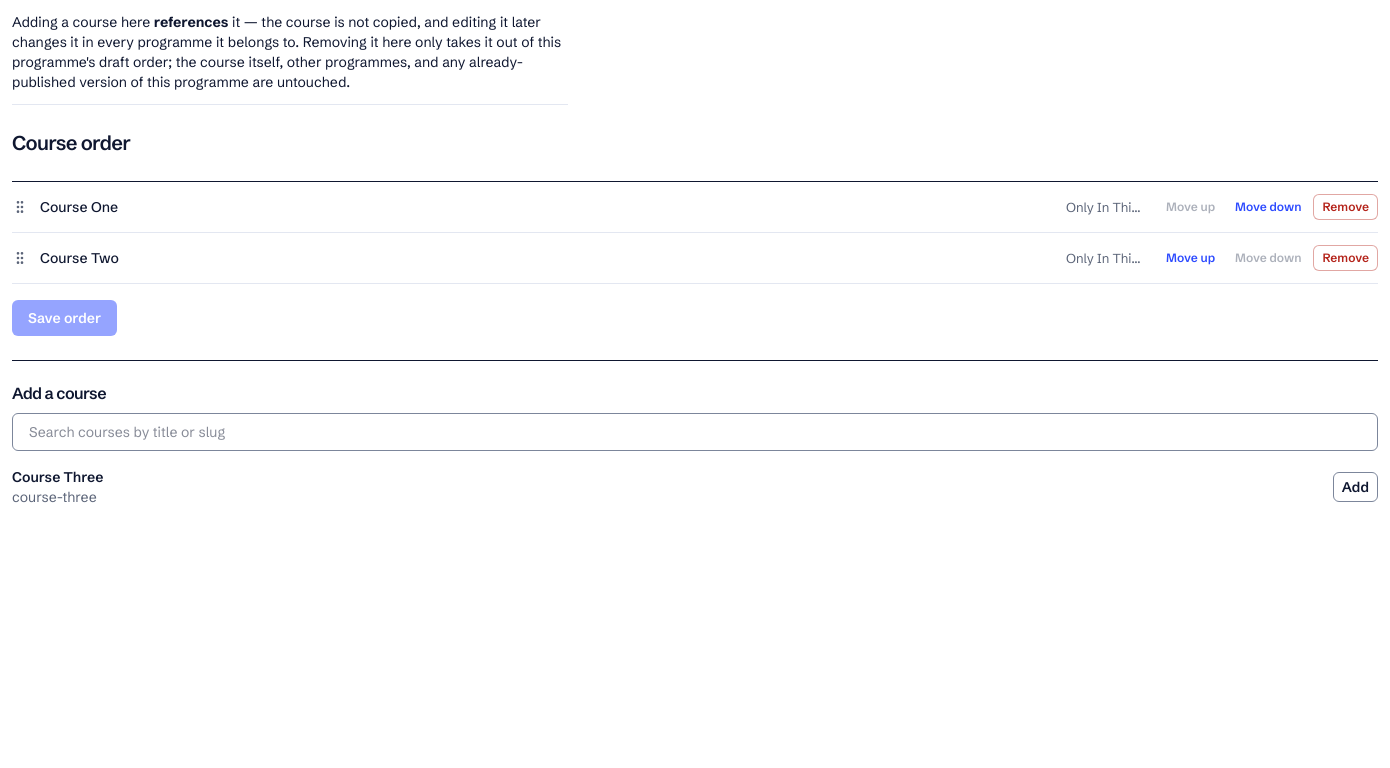
Test: ProgrammeArrangeClient — rejected save order recovers › clears saving, surfaces a generic retryable alert, and a user retry succeeds
The width and height of the screenshot is (1390, 768).
Click the button with aria-label "Move Course One down": (1268, 207) [1227,194,1309,220]
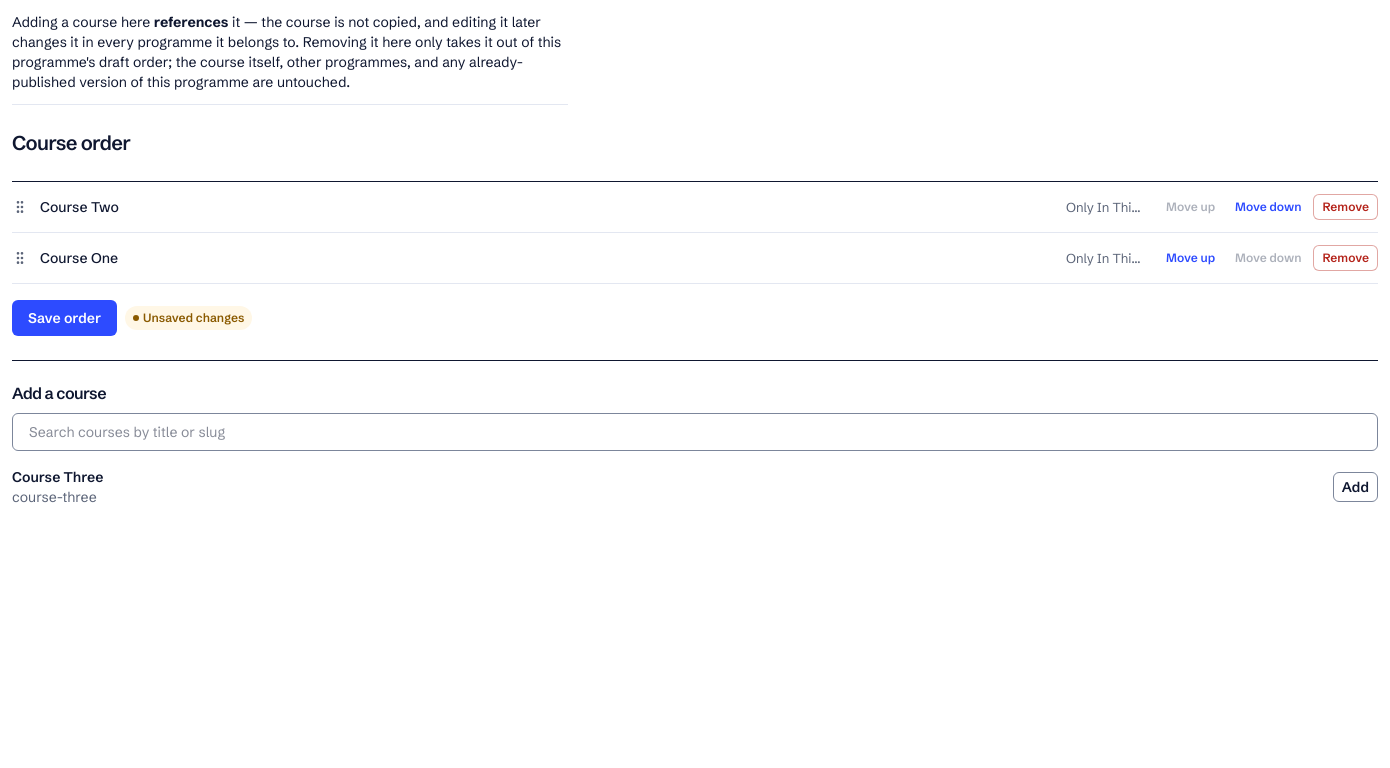
Click the button "Save order": (64, 318) [12,300,117,336]
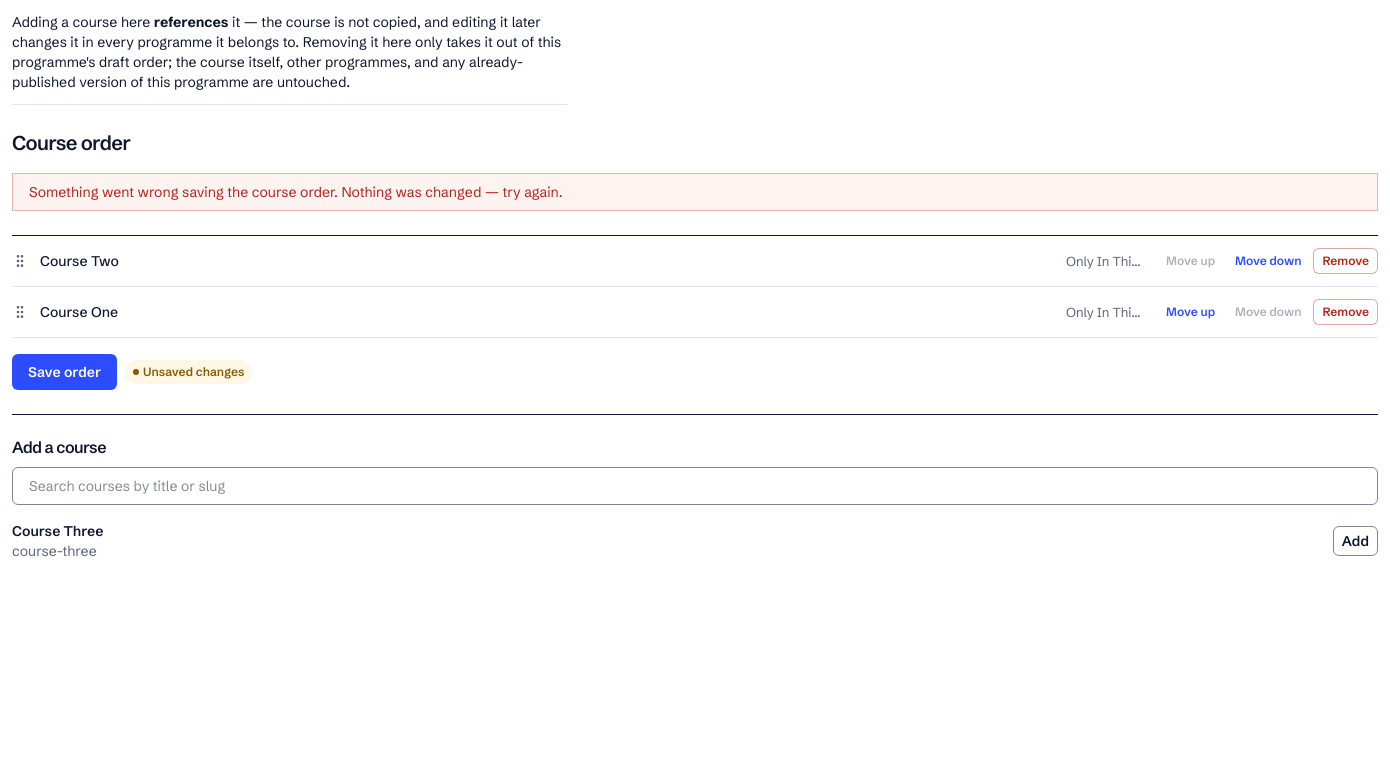
Now the button "Save order" is enabled
Now the message shows "try again", box [29,183,563,201]
Click the button "Save order": (64, 372) [12,354,117,390]
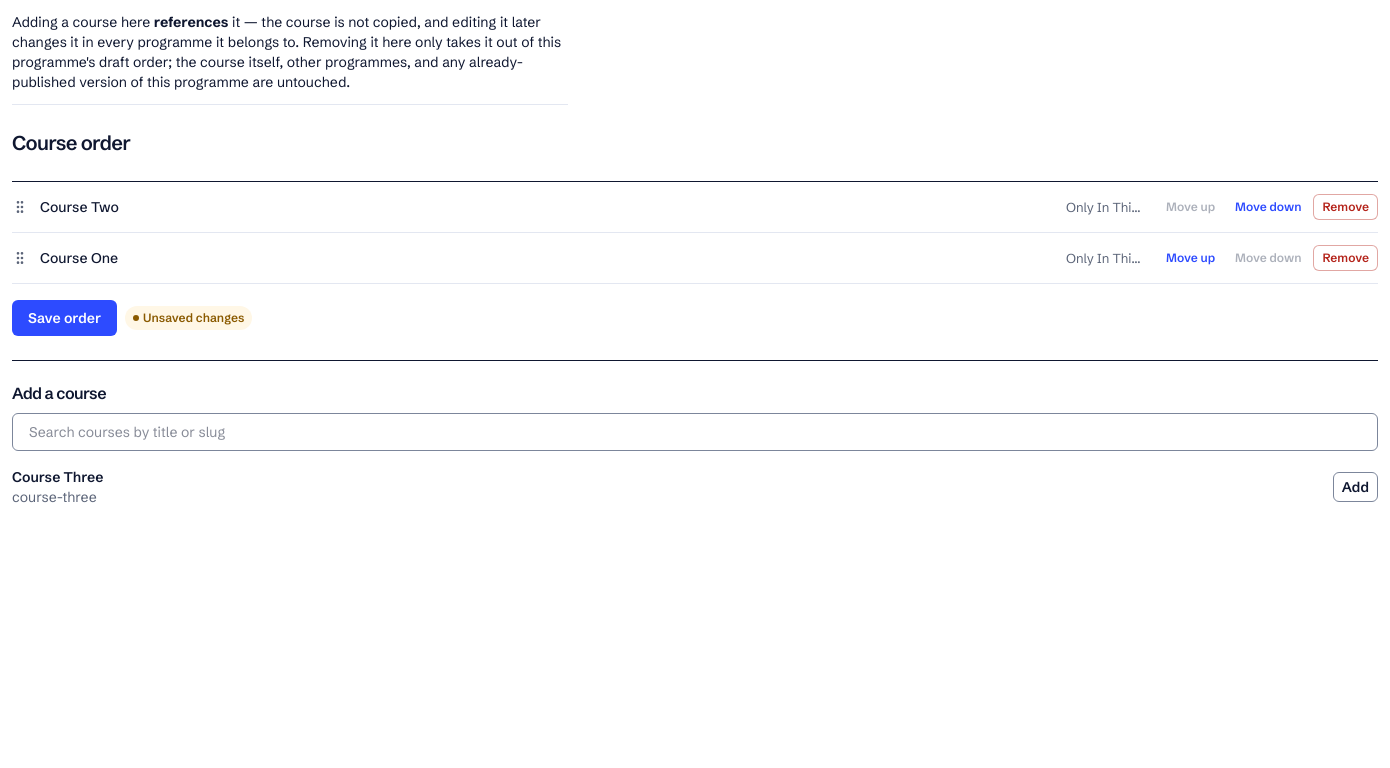
Now the message "Something went wrong saving the course order. Nothing was changed — try again." is gone
